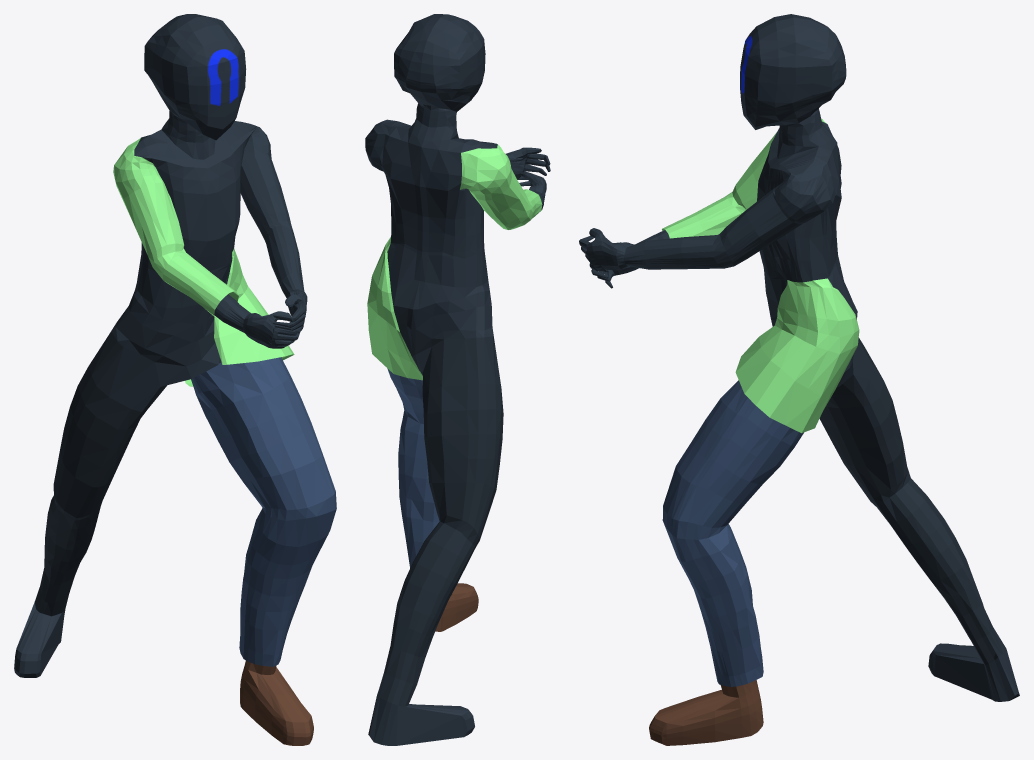
The model's file is Mar_WB_000030.obj.
The picture shows the model from 3 angles, left to right: view 1: azimuth 30°, elevation 25°; view 2: azimuth 150°, elevation 25°; view 3: azimuth 270°, elevation 25°; orthographic projection. The views are drawn at different scales.
Parts seen in each view (by area): view 1: Cube.000_Cube.001; view 2: Cube.000_Cube.001; view 3: Cube.000_Cube.001.
Part boxes in pixels (<box>): Cube.000_Cube.001: <box>14,14,336,745</box>; Cube.000_Cube.001: <box>365,14,550,745</box>; Cube.000_Cube.001: <box>579,14,1019,745</box>.
Size of the model in its own units: 1.09 by 3.71 by 2.11.
